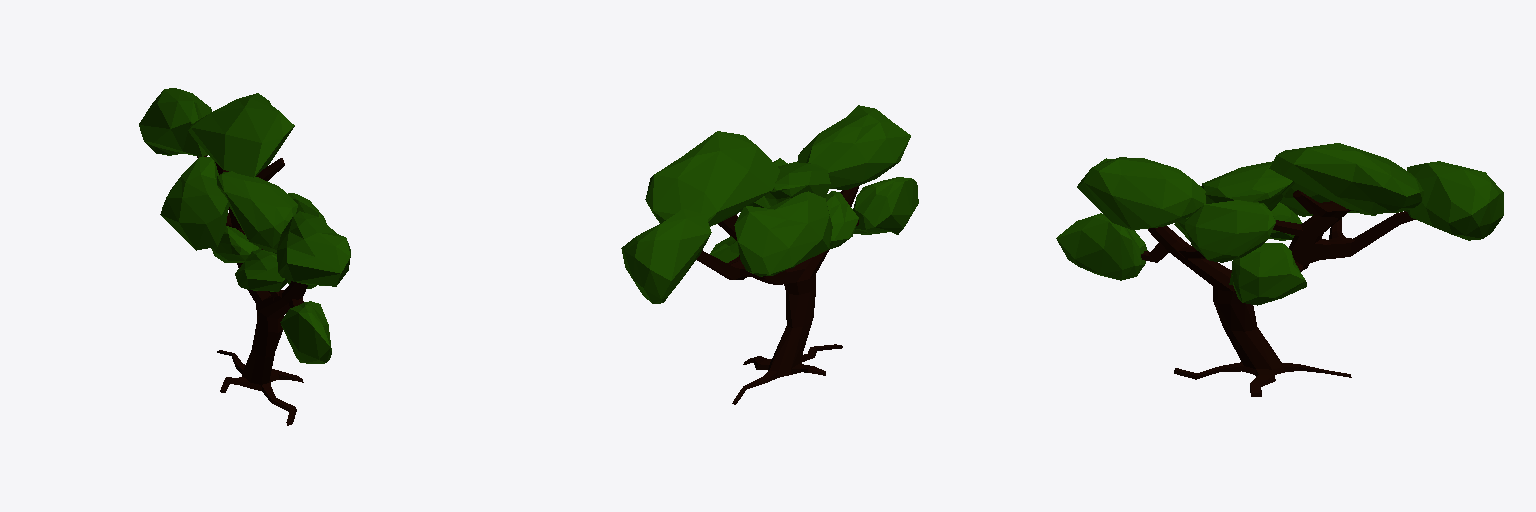
File: biggreentreewide.obj
The picture shows the model from 3 angles: view 1: azimuth 30°, elevation 25°; view 2: azimuth 150°, elevation 25°; view 3: azimuth 270°, elevation 25°; orthographic projection.
Visible parts, largest first — view 1: t1-green_Cylinder.002; view 2: t1-green_Cylinder.002; view 3: t1-green_Cylinder.002.
Boxes of the visible parts, x1=… form: t1-green_Cylinder.002: x1=139, y1=88, x2=350, y2=425; t1-green_Cylinder.002: x1=621, y1=105, x2=918, y2=404; t1-green_Cylinder.002: x1=1056, y1=143, x2=1503, y2=396.
Bounding box in the file's own units: 6.43 × 11.75 × 18.97.